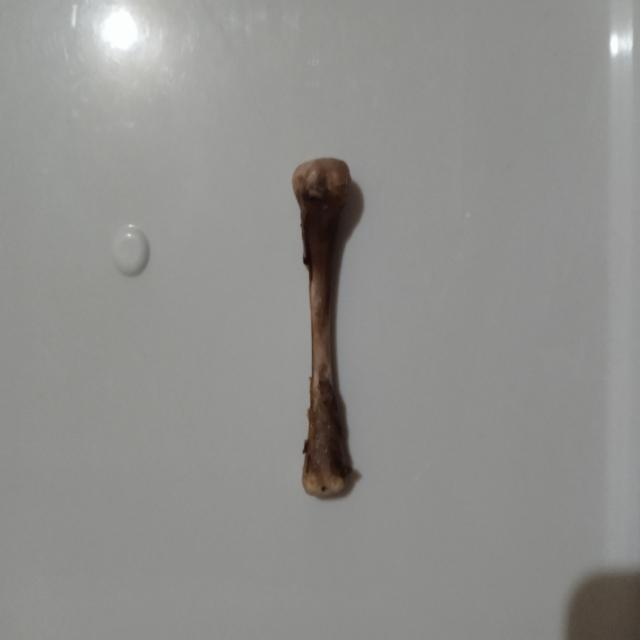bone: (290, 144, 366, 502)
